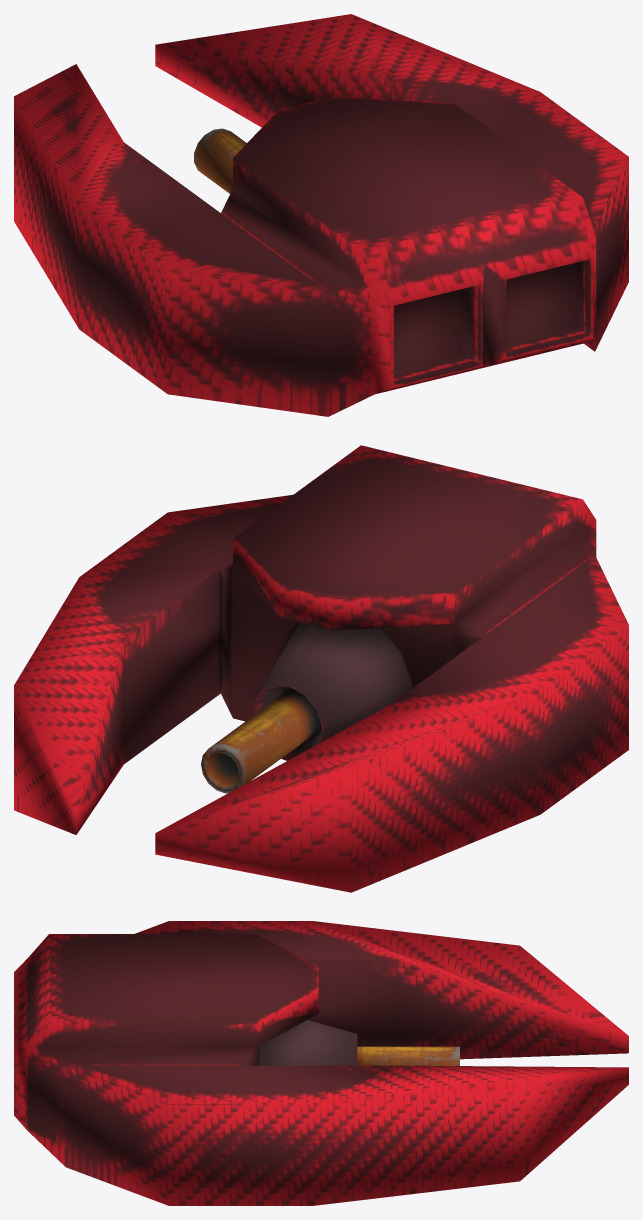
Rendered from spaceship3.fbx.
3 views of the same model, one above another, from view 1: azimuth 30°, elevation 25°; view 2: azimuth 150°, elevation 25°; view 3: azimuth 270°, elevation 25° (orthographic). The views are drawn at different scales.
Visible parts, largest first — view 1: nave_inimiga 2; view 2: nave_inimiga 2; view 3: nave_inimiga 2.
Part boxes in pixels (x1,y1,x2,y2): nave_inimiga 2: (14,14,628,416); nave_inimiga 2: (14,445,628,892); nave_inimiga 2: (14,921,628,1205).
Size of the model in its own units: 680 by 253 by 964.
1 material, 1 textured.
